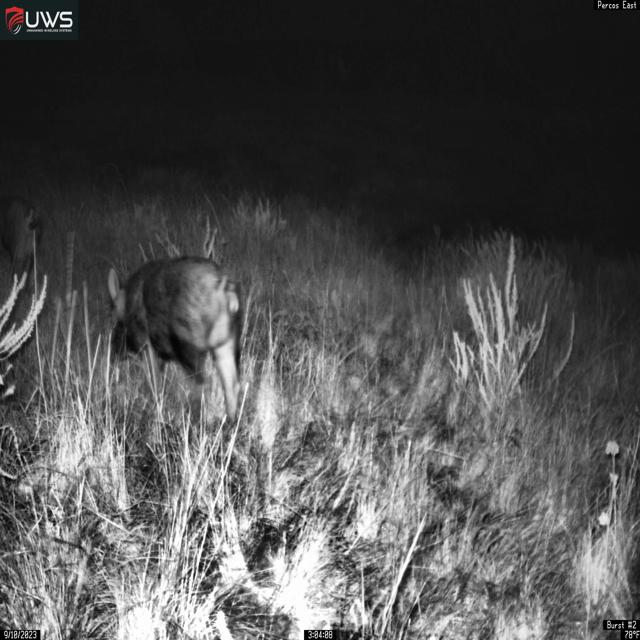pig: (106, 255, 244, 431)
